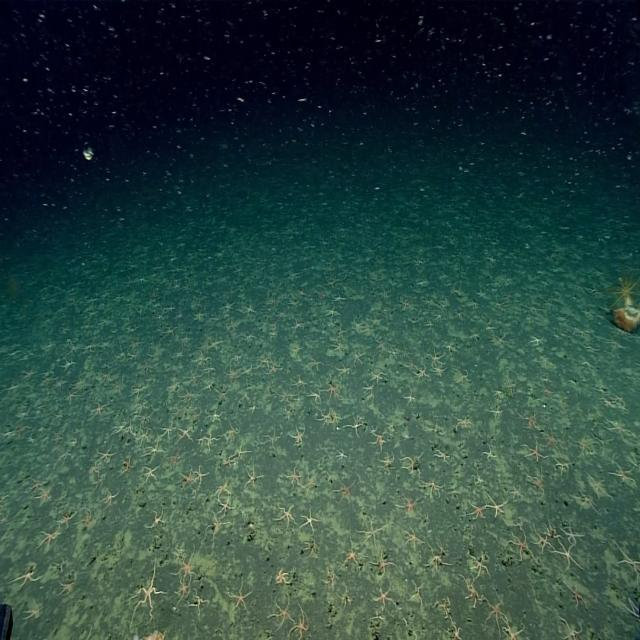brittle-stars: (134, 565, 162, 613), (483, 594, 506, 634), (508, 526, 533, 562), (553, 541, 582, 572), (617, 545, 640, 580), (358, 518, 382, 550), (14, 563, 41, 590), (271, 597, 294, 627), (230, 582, 252, 613), (611, 461, 637, 486), (564, 583, 588, 610), (460, 575, 480, 607), (342, 539, 362, 571), (292, 609, 312, 640), (176, 550, 196, 580), (558, 619, 586, 640), (372, 585, 396, 609), (607, 417, 632, 440), (575, 488, 597, 514), (560, 522, 583, 546), (532, 525, 552, 552), (426, 546, 446, 573), (401, 453, 424, 476), (372, 553, 394, 577), (487, 493, 508, 518), (399, 493, 420, 518), (471, 552, 491, 578), (334, 480, 356, 503), (276, 504, 296, 529), (523, 441, 544, 464), (586, 475, 606, 499), (468, 498, 488, 521), (39, 526, 59, 549), (143, 439, 163, 462), (208, 515, 228, 538), (302, 508, 320, 533), (543, 429, 561, 454), (405, 525, 423, 549), (192, 591, 210, 615), (503, 622, 527, 640), (422, 480, 443, 500), (527, 472, 544, 496), (575, 436, 592, 459), (101, 487, 120, 507), (627, 596, 640, 625), (243, 467, 259, 490), (176, 578, 192, 601), (436, 447, 454, 467), (26, 602, 44, 622), (148, 509, 165, 530), (346, 415, 363, 436), (371, 430, 388, 451), (264, 427, 281, 448), (301, 474, 317, 496), (143, 627, 170, 640), (200, 432, 218, 451), (276, 566, 293, 586), (91, 401, 108, 421), (36, 485, 53, 505), (61, 574, 78, 594), (225, 422, 241, 443), (455, 415, 473, 433), (98, 446, 116, 464), (143, 463, 160, 482), (216, 497, 233, 516), (522, 412, 539, 431), (288, 425, 304, 445), (286, 466, 302, 486), (323, 381, 339, 401), (168, 448, 184, 468), (179, 469, 194, 490), (278, 384, 294, 403), (448, 621, 464, 640), (79, 508, 93, 529), (379, 453, 395, 471), (178, 424, 194, 442), (214, 481, 230, 499), (405, 384, 418, 406), (195, 464, 209, 484), (208, 407, 224, 424), (59, 513, 76, 529), (287, 341, 302, 359), (224, 366, 239, 384), (414, 362, 429, 380), (455, 366, 470, 384), (180, 387, 196, 403), (489, 406, 504, 423), (483, 446, 498, 463), (209, 335, 223, 353), (122, 455, 135, 474), (510, 483, 523, 502), (430, 362, 446, 377), (428, 349, 443, 365), (196, 352, 211, 368), (236, 444, 250, 461), (23, 365, 40, 379), (337, 361, 352, 376), (332, 340, 347, 355), (372, 370, 386, 386), (308, 355, 322, 371), (268, 360, 282, 376), (292, 375, 306, 391), (162, 421, 175, 438), (352, 316, 365, 333), (334, 290, 348, 305), (65, 389, 79, 404), (186, 371, 200, 386), (307, 386, 320, 402), (324, 305, 338, 319), (192, 308, 205, 323), (222, 454, 235, 469), (353, 348, 364, 365), (257, 353, 268, 368), (338, 449, 348, 462)
